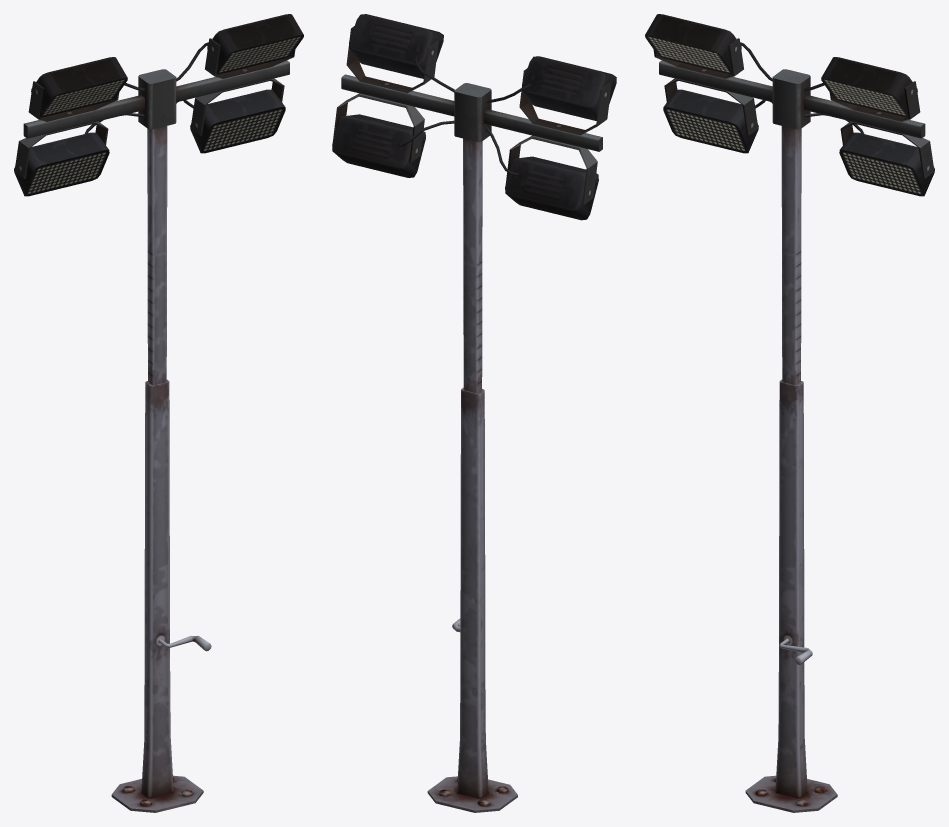
File: TowerLight01B_1.FBX
3 views of the same model, side by side, from view 1: azimuth 30°, elevation 25°; view 2: azimuth 150°, elevation 25°; view 3: azimuth 330°, elevation 25° (orthographic).
Visible parts, largest first — view 1: TowerLight01B_1; view 2: TowerLight01B_1; view 3: TowerLight01B_1.
Part boxes in pixels (x1,y1,x2,y2): TowerLight01B_1: (14, 14, 303, 812); TowerLight01B_1: (332, 14, 616, 812); TowerLight01B_1: (645, 14, 934, 812).
Size of what is drawn, in the model's own units: 2.25 by 6.21 by 0.6225.
